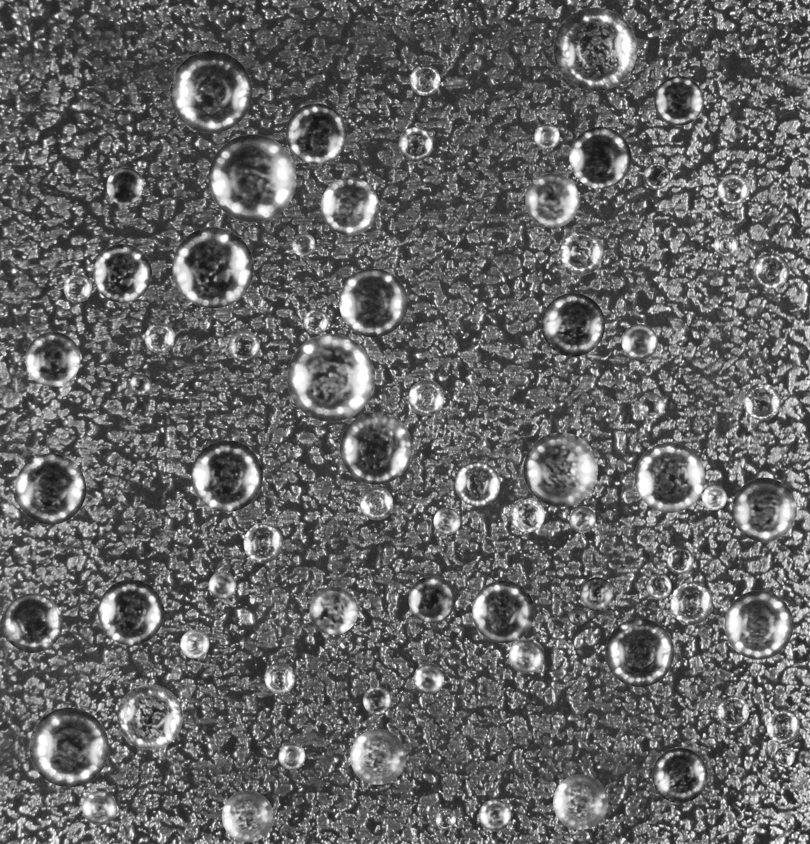Bubble: (208, 134, 296, 222), (287, 334, 374, 421), (553, 7, 637, 91), (170, 50, 252, 133), (172, 227, 253, 308), (29, 707, 108, 787), (523, 432, 597, 506), (340, 412, 412, 484), (15, 453, 86, 524), (191, 440, 262, 511), (634, 442, 705, 512), (605, 618, 674, 687), (724, 590, 793, 659), (339, 268, 407, 337), (98, 579, 164, 645), (117, 684, 182, 749), (732, 477, 796, 542), (541, 293, 605, 356), (472, 580, 534, 643), (569, 126, 631, 188), (285, 103, 346, 164), (2, 593, 62, 653), (320, 177, 378, 235), (93, 244, 151, 302), (350, 729, 406, 784), (25, 331, 80, 386), (652, 748, 707, 803), (553, 774, 608, 829), (525, 173, 579, 227), (221, 790, 273, 842), (654, 76, 703, 125), (309, 586, 358, 634), (408, 576, 455, 623), (455, 461, 500, 506), (670, 582, 713, 625), (560, 231, 603, 274), (243, 523, 283, 563), (106, 167, 143, 204), (743, 383, 780, 420), (752, 253, 789, 289), (621, 324, 657, 360), (408, 380, 444, 415), (509, 638, 544, 673), (82, 790, 116, 825), (510, 497, 544, 532), (580, 577, 614, 611), (398, 127, 432, 161), (766, 710, 800, 744), (360, 487, 393, 520), (716, 695, 749, 727), (479, 799, 511, 831), (228, 330, 259, 362), (409, 64, 440, 95), (717, 174, 748, 205), (264, 662, 295, 693), (413, 663, 444, 694), (144, 322, 174, 353), (180, 629, 209, 658), (63, 273, 91, 302), (208, 571, 236, 599), (363, 686, 391, 714), (666, 546, 693, 573), (278, 743, 305, 770), (433, 507, 460, 534), (643, 162, 670, 189), (569, 506, 595, 532), (645, 573, 671, 599), (534, 123, 559, 149), (639, 392, 664, 418), (303, 309, 328, 334), (702, 485, 726, 510), (714, 233, 738, 257), (292, 233, 315, 256), (130, 373, 151, 395), (435, 809, 456, 829), (774, 747, 794, 767), (568, 607, 586, 625), (731, 124, 745, 138), (249, 295, 263, 308), (269, 611, 278, 620)
